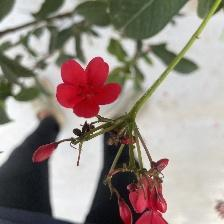jatropha: (55, 56, 125, 119)
